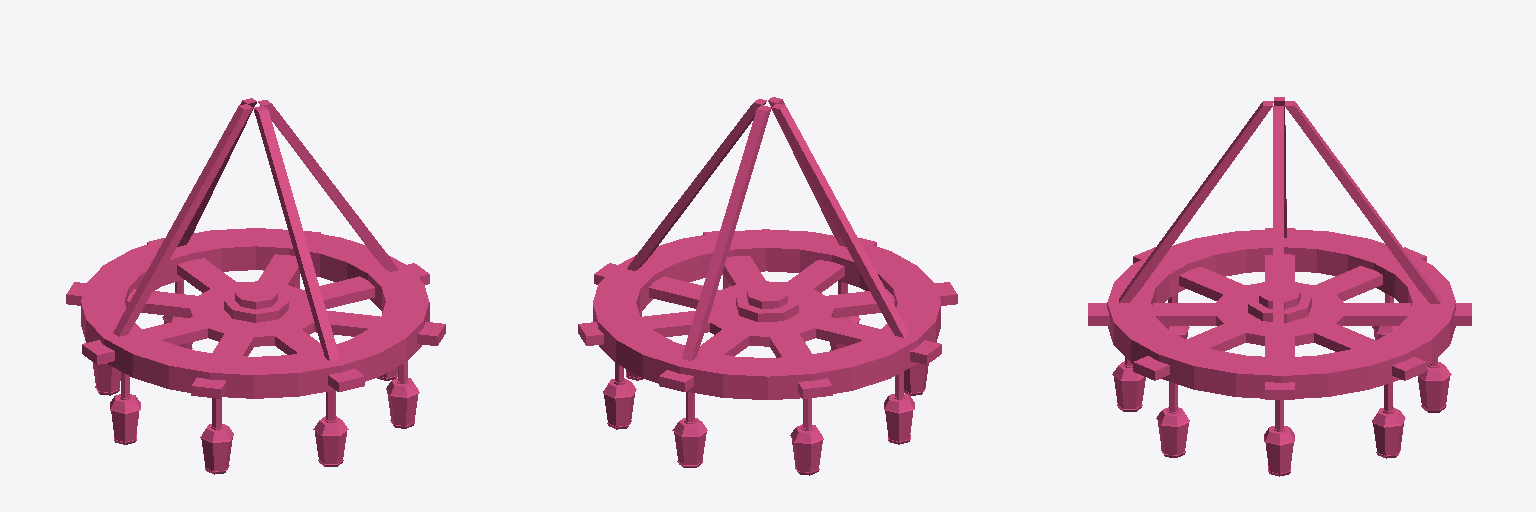
File: Candelabro.obj
The picture shows the model from 3 angles: view 1: azimuth 30°, elevation 25°; view 2: azimuth 150°, elevation 25°; view 3: azimuth 270°, elevation 25°; orthographic projection.
Parts seen in each view (by area): view 1: Candelabro; view 2: Candelabro; view 3: Candelabro.
Boxes of the visible parts, <box> form: Candelabro: <box>66,98,445,474</box>; Candelabro: <box>578,97,957,475</box>; Candelabro: <box>1088,97,1471,476</box>.
Bounding box in the file's own units: 174 × 152 × 174.